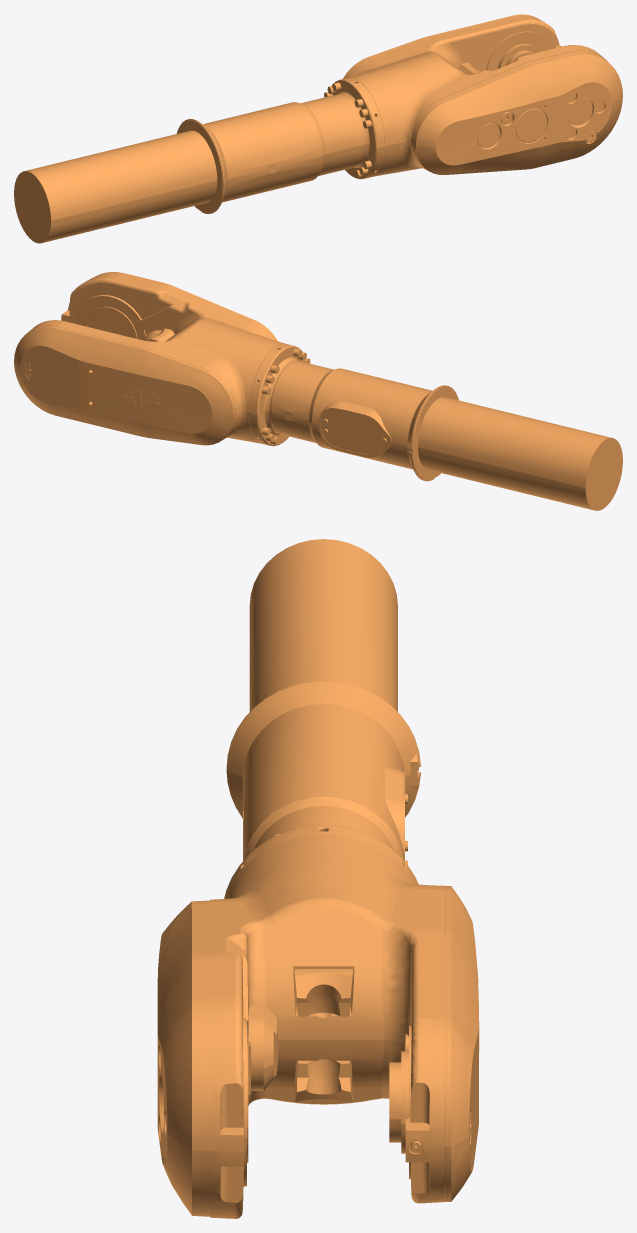
3 renders of one model, top to bottom at view 1: azimuth 30°, elevation 25°; view 2: azimuth 150°, elevation 25°; view 3: azimuth 270°, elevation 25°, orthographic. The views are drawn at different scales.
Parts seen in each view (by area): view 1: mesh_0; view 2: mesh_0; view 3: mesh_0.
Boxes of the visible parts, <box> form: mesh_0: <box>14,14,622,243</box>; mesh_0: <box>14,272,622,510</box>; mesh_0: <box>157,539,479,1218</box>.
Size of the model in its own units: 1.48 by 0.267 by 0.3689.
